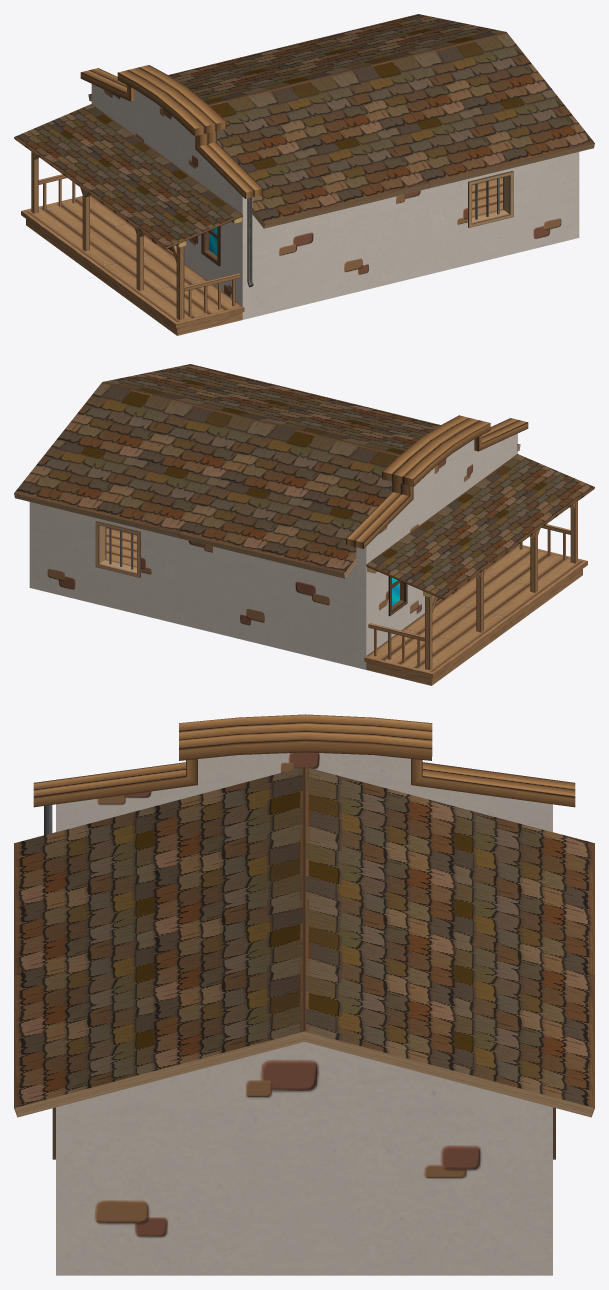
Rendered from House_02.FBX.
The picture shows the model from 3 angles, top to bottom: view 1: azimuth 30°, elevation 25°; view 2: azimuth 150°, elevation 25°; view 3: azimuth 270°, elevation 25°; orthographic projection. The views are drawn at different scales.
Parts seen in each view (by area): view 1: Roof, Walls, Frontage, Front; view 2: Roof, Walls, Frontage, Front; view 3: Roof, Walls, Front.
Part boxes in pixels (x1,y1,x2,y2): Roof: [88, 14, 594, 228]; Walls: [252, 152, 579, 317]; Frontage: [14, 104, 244, 335]; Front: [80, 65, 262, 319]; Roof: [14, 364, 520, 578]; Walls: [29, 502, 356, 667]; Frontage: [364, 454, 594, 685]; Front: [346, 415, 528, 669]; Roof: [14, 766, 594, 1117]; Walls: [52, 1042, 555, 1275]; Front: [33, 714, 575, 835].
Size of the model in its own units: 12.74 by 5.01 by 9.35.
